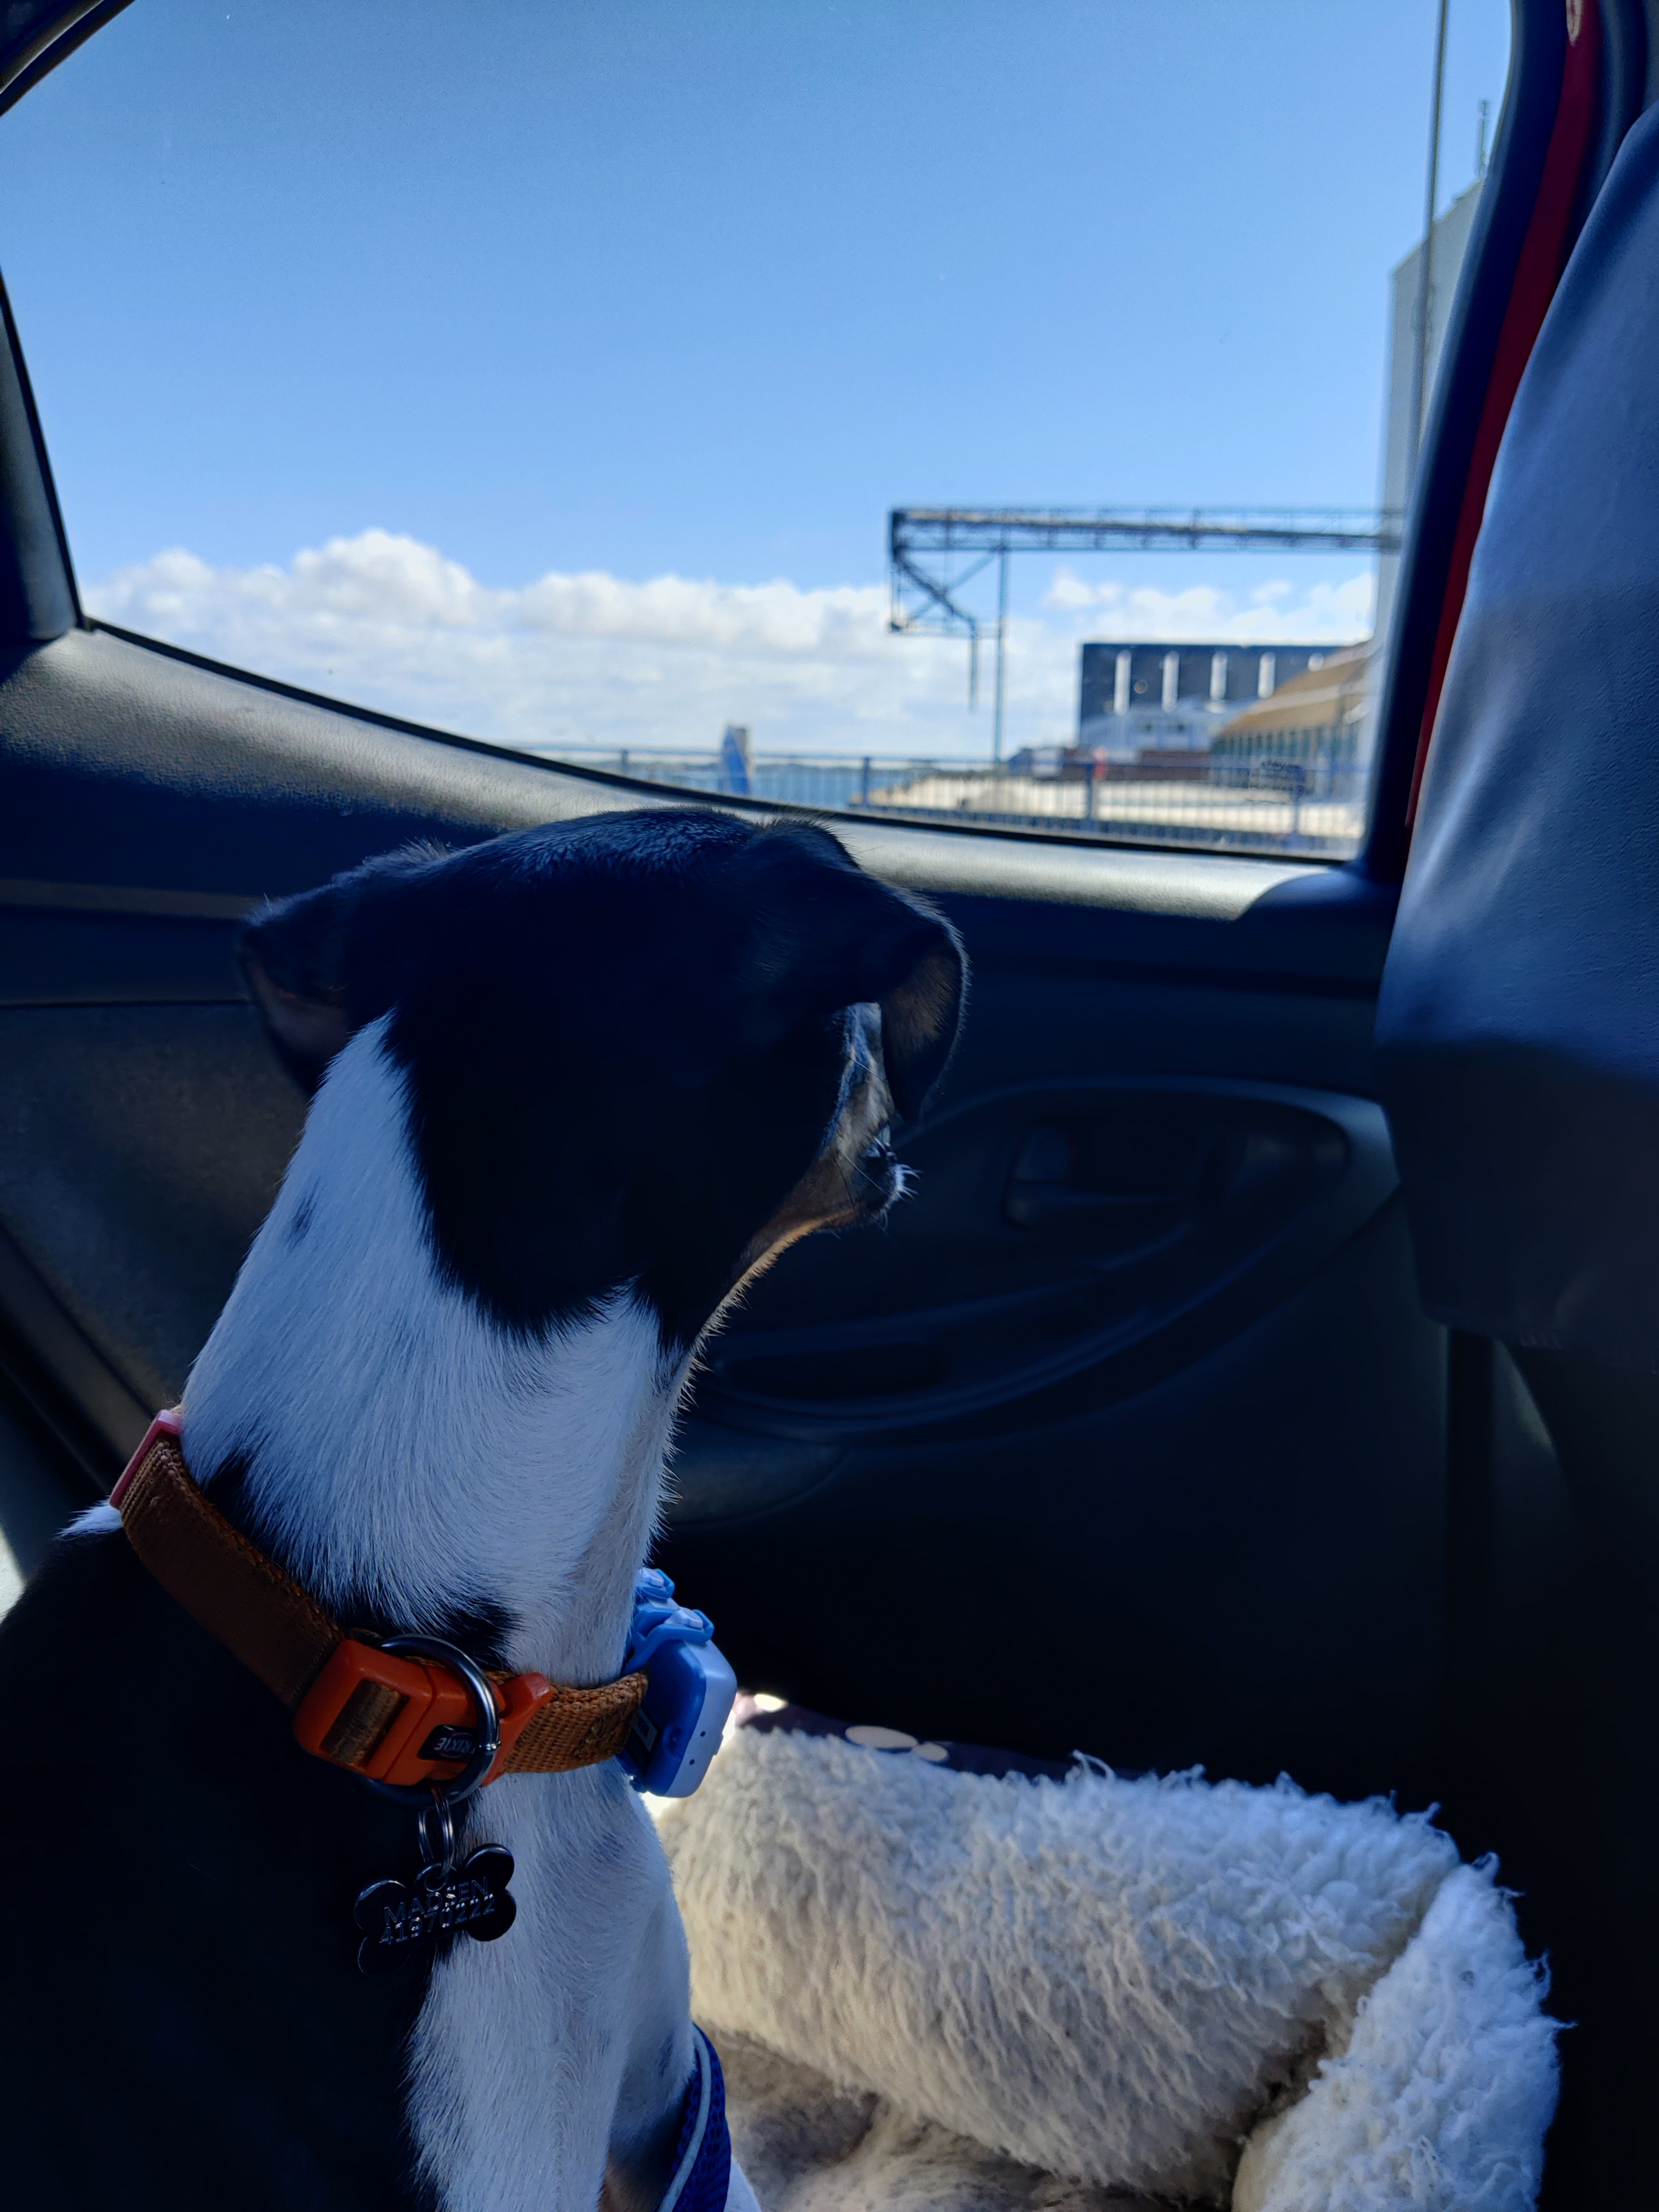Dog: (0, 794, 979, 2212)
